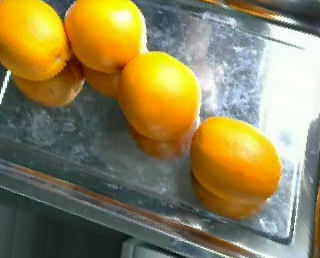Orange: (189, 116, 282, 203), (117, 51, 201, 139), (61, 1, 146, 73), (1, 1, 74, 82)
